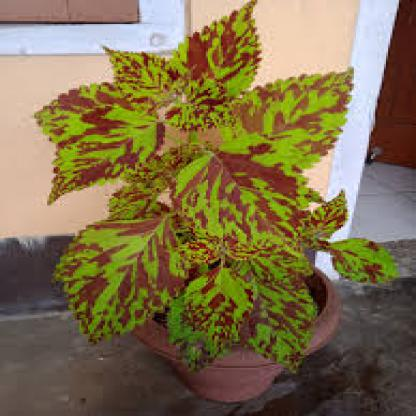Bunga Coleus: (36, 24, 407, 355)
